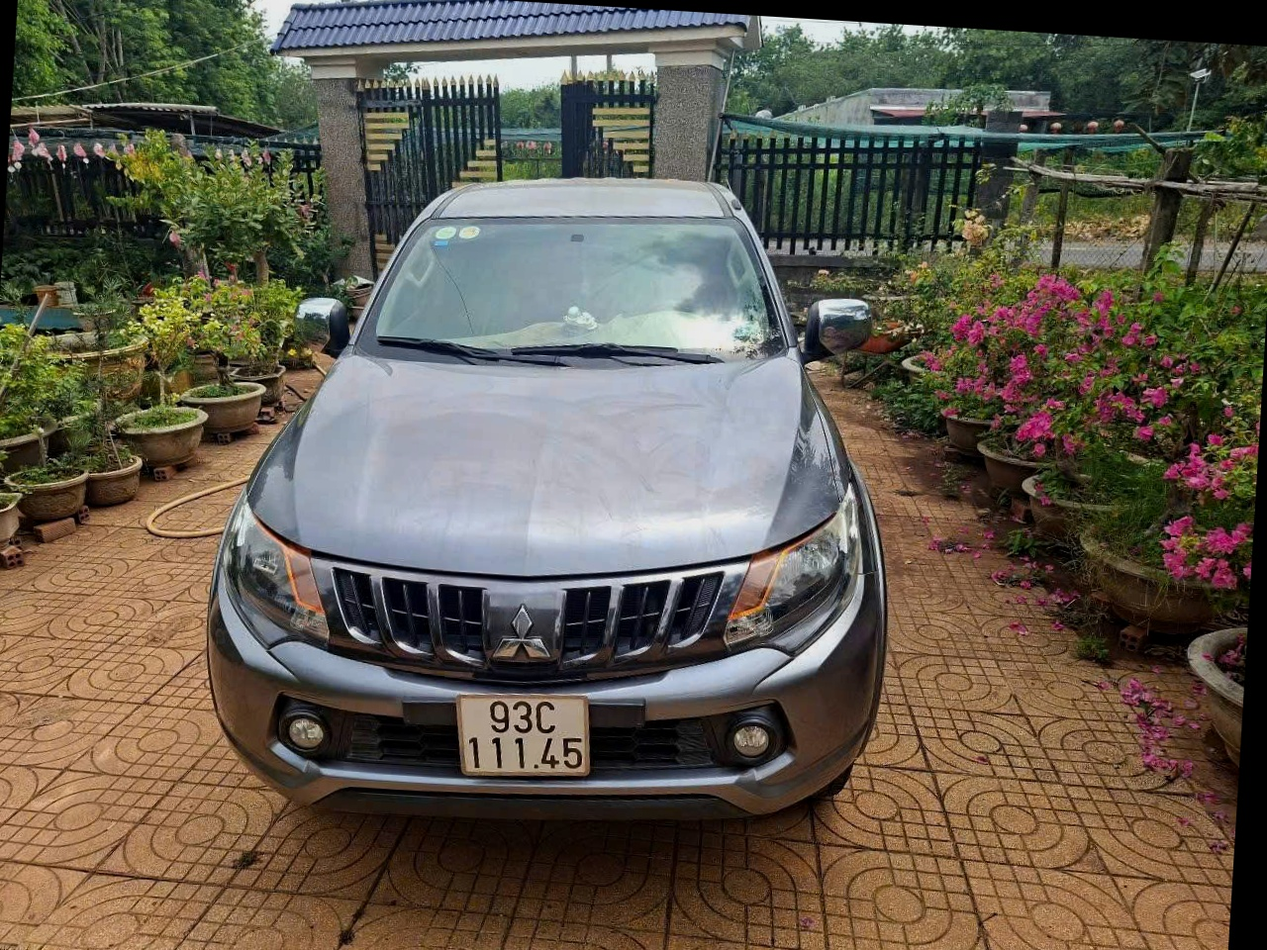Bien-so: (452, 681, 605, 791)
